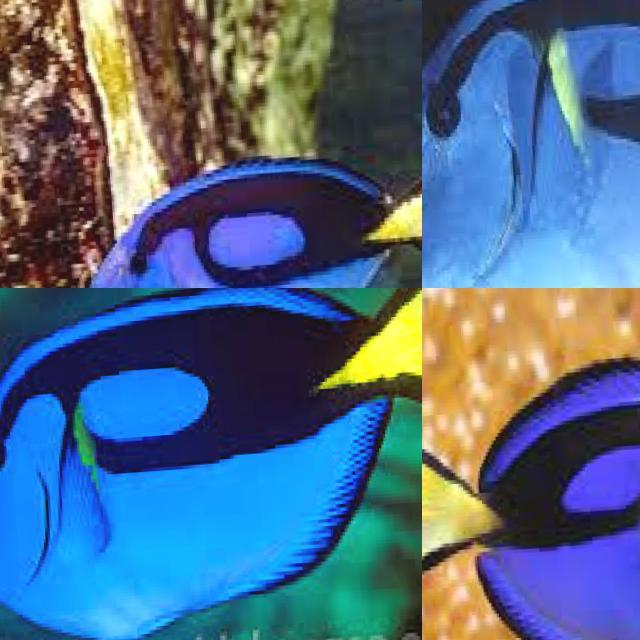BlueTang: (0, 288, 422, 640), (50, 94, 422, 288), (422, 310, 640, 640), (422, 0, 640, 288)
